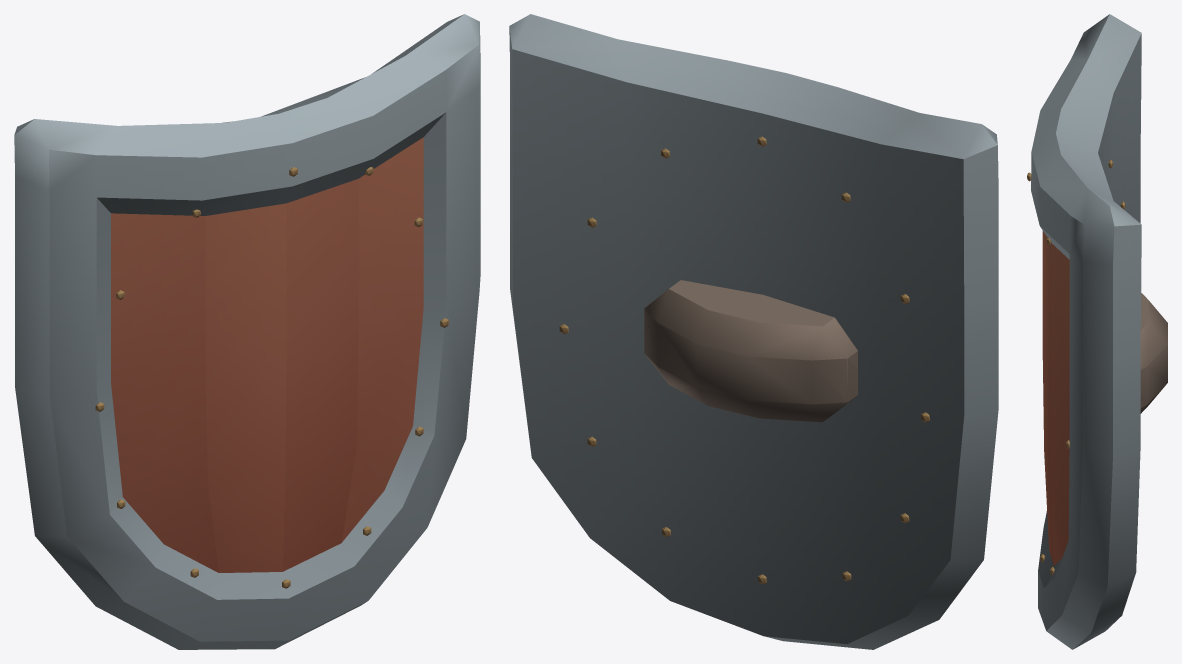
Rendered from escudo_inicial.glb.
3 views of the same model, side by side, from view 1: azimuth 30°, elevation 25°; view 2: azimuth 150°, elevation 25°; view 3: azimuth 270°, elevation 25° (orthographic). The views are drawn at different scales.
Parts seen in each view (by area): view 1: escudo_inicial_finished; view 2: escudo_inicial_finished; view 3: escudo_inicial_finished.
Part boxes in pixels (x1,y1,x2,y2): escudo_inicial_finished: [14, 14, 480, 649]; escudo_inicial_finished: [509, 14, 998, 649]; escudo_inicial_finished: [1027, 14, 1167, 649].
Bounding box in the file's own units: 0.8826 × 1.02 × 0.2528.
Materials: 2 (2 with a texture image).
